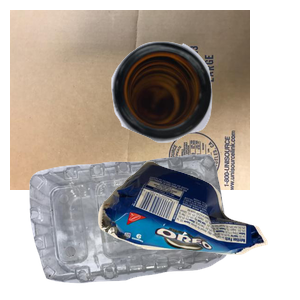cardboard: (10, 10, 250, 190)
glass: (109, 39, 300, 175)
plastic: (27, 152, 247, 300)
trash: (95, 158, 300, 300)
